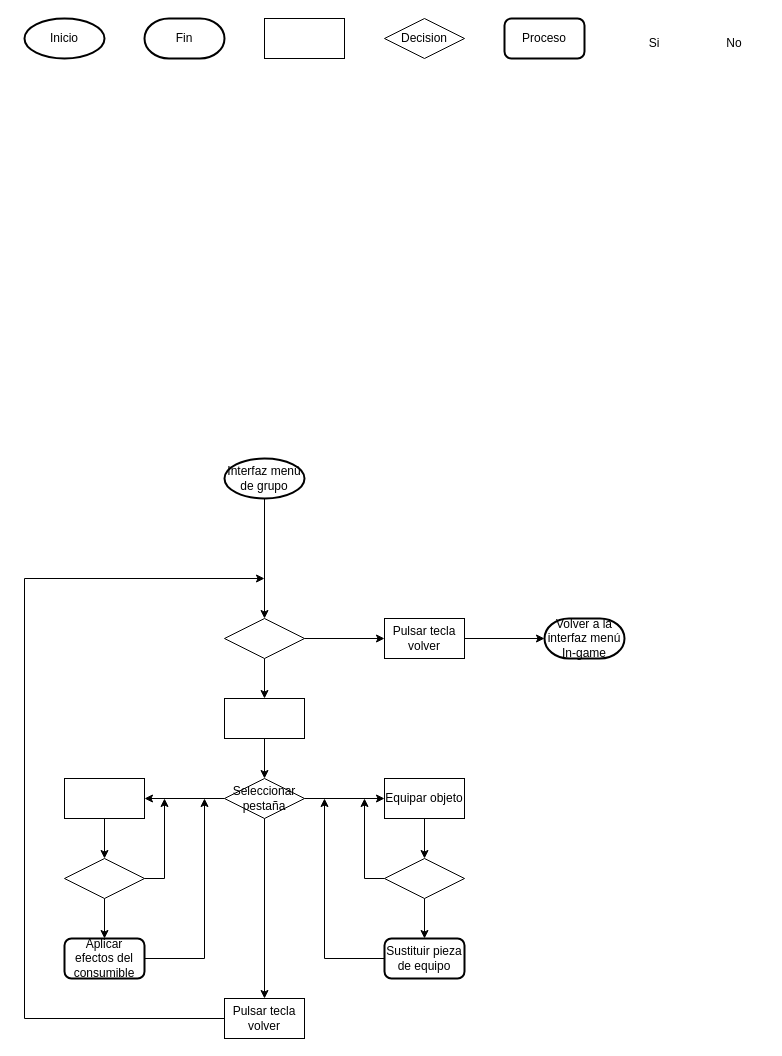
This 782x1056 diagram has some shape labels left out. Each missing label, with the centre of its shape:
"Confirmar consumo" belongs at point (104, 878).
"Confirmar equipado" belongs at point (424, 878).
"Consumir objeto" belongs at point (104, 798).
"Opcion" belongs at point (304, 38).
"Personaje seleccionado" belongs at point (264, 718).
"Seleccionar personaje" belongs at point (264, 638).
